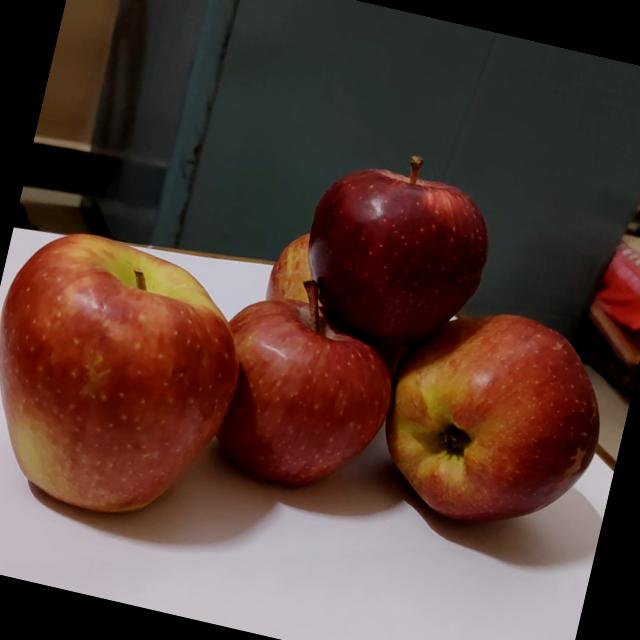apple: (0, 210, 256, 537), (354, 284, 618, 550), (180, 253, 404, 508), (270, 123, 502, 359), (250, 217, 334, 317)
